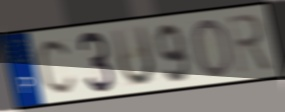3: (76, 28, 115, 95)
9: (153, 21, 192, 84)
C: (36, 36, 79, 96)
O: (192, 16, 234, 79)
R: (225, 11, 274, 77)
U: (109, 23, 157, 89)
